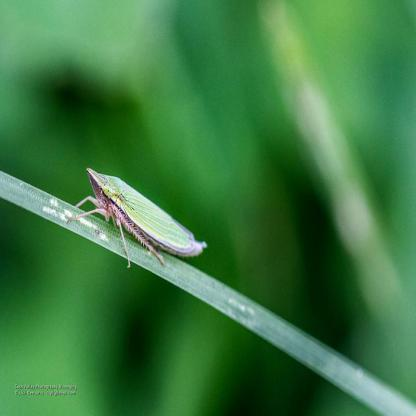green-leafhopper: (86, 161, 209, 274)
